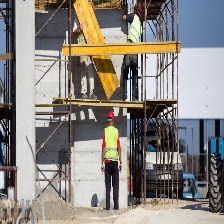helmet: (106, 108, 116, 122)
person: (100, 109, 122, 211)
vest: (104, 124, 119, 162), (128, 13, 141, 44)
